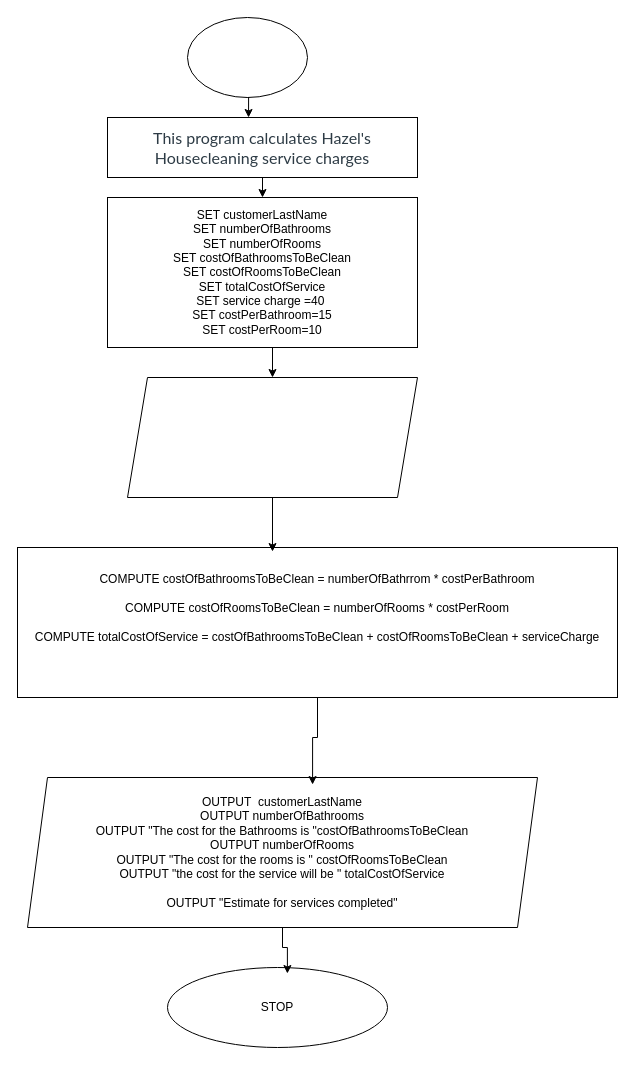
The diagram is 635 pixels wide and 1065 high, and some of its shapes have lost their labels. Each missing label, with the centre of its shape:
"INPUT customerLastName INPUT numberOfBathrooms INPUT numberOfRooms" goes at point (272, 437).
"START" goes at point (247, 57).
